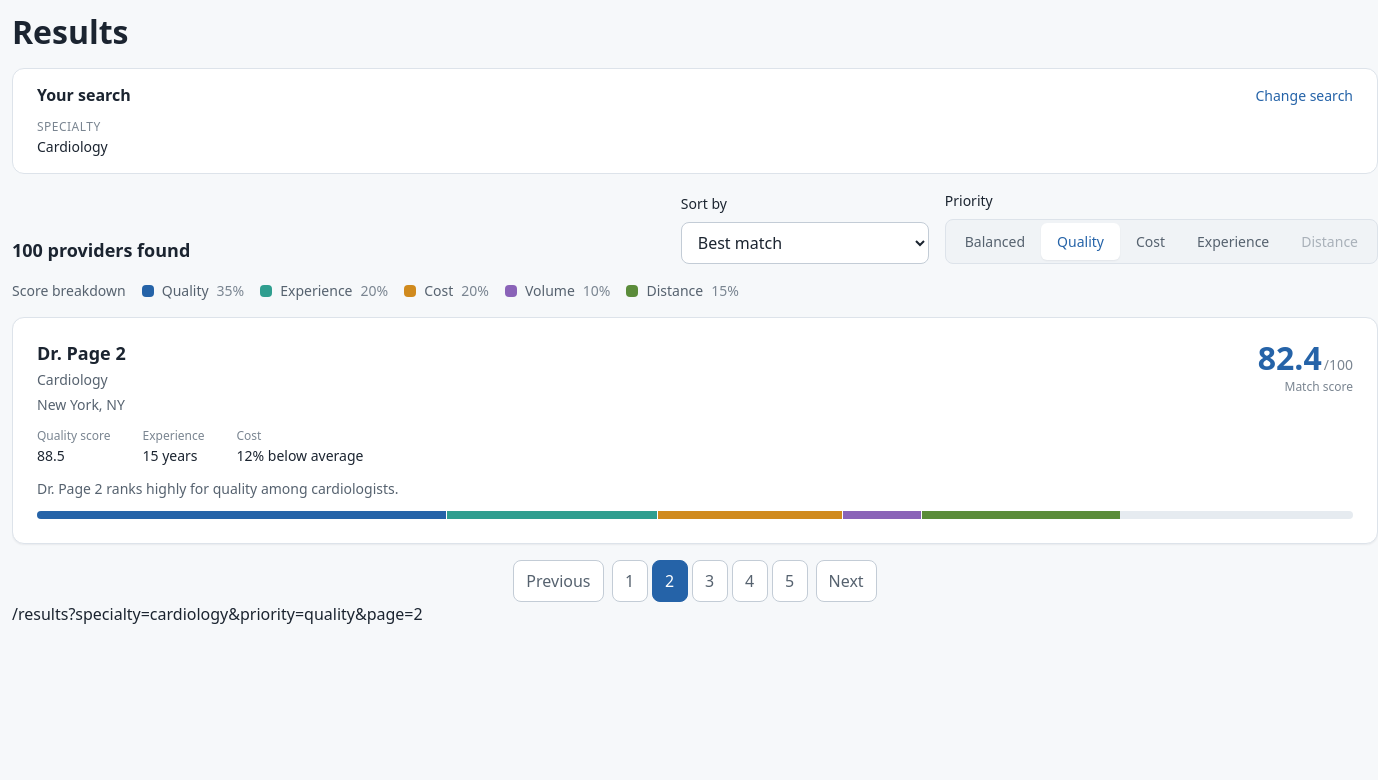
Test: ResultsPage › changes the priority in the URL, back to page 1, and searches again
Expected: the element "Dr. Page 2" is shown, [12,317,1377,544]
Expected: the radio button labelled "Quality" is checked, [1041,223,1120,260]
Click the radio button labelled "Cost" at (1150, 242), box [1136,232,1165,251]
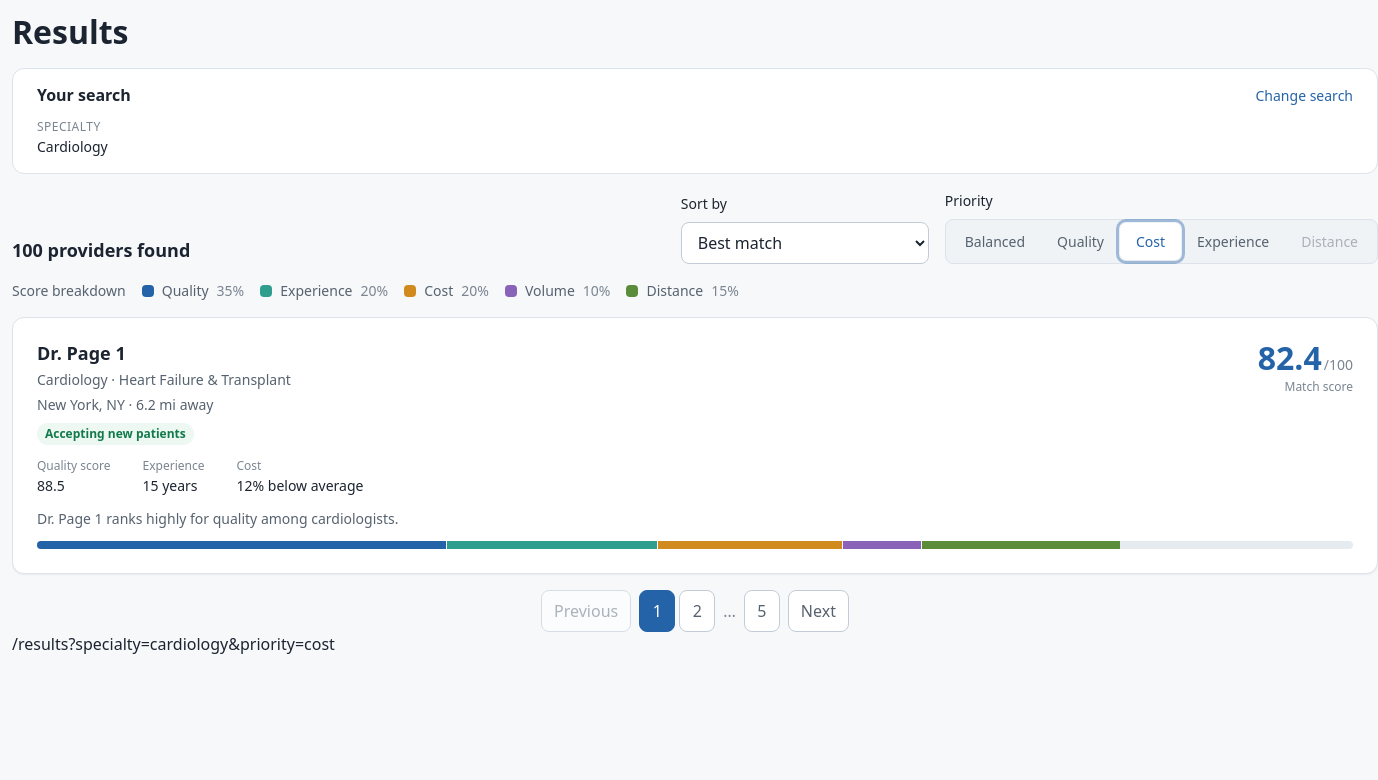
Expected: the element "Dr. Page 1" is shown, [12,317,1377,574]
